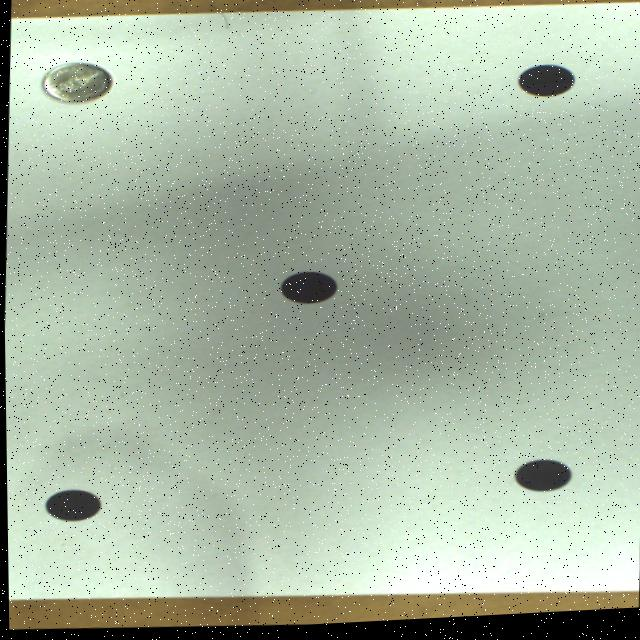space: (279, 274, 335, 306), (44, 489, 100, 520), (513, 464, 569, 495), (518, 70, 574, 101)
tail1bath: (42, 62, 110, 101)
